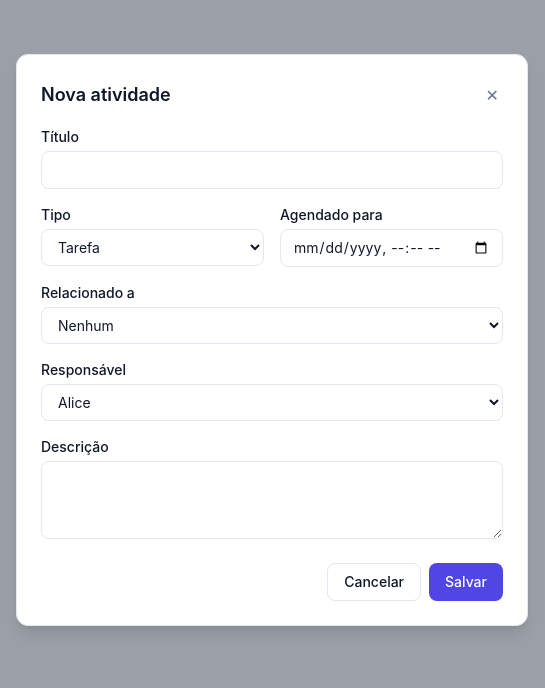
Test case: ActivityFormModal › switching the relation type clears the previously selected related record
Select "Lead" in the dropdown labelled "Relacionado a" at (272, 326), box [41,307,503,344]
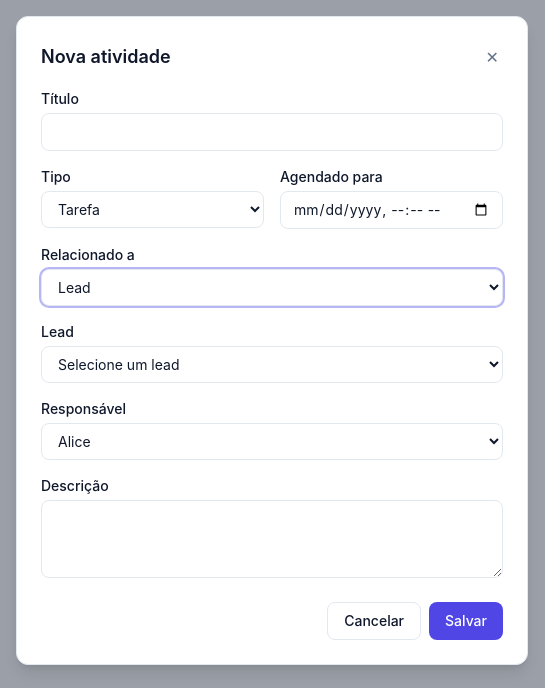
Select "John Doe" in the dropdown labelled "Lead" at (272, 364), box [41,346,503,382]
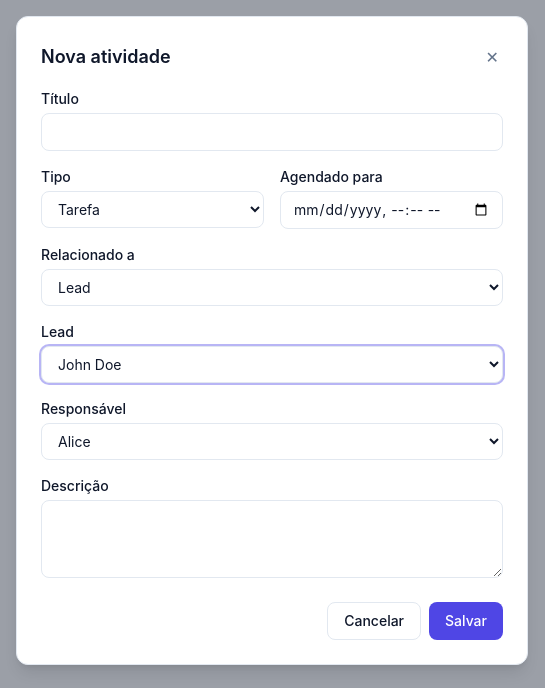
Select "Cliente" in the dropdown labelled "Relacionado a" at (272, 287), box [41,268,503,306]
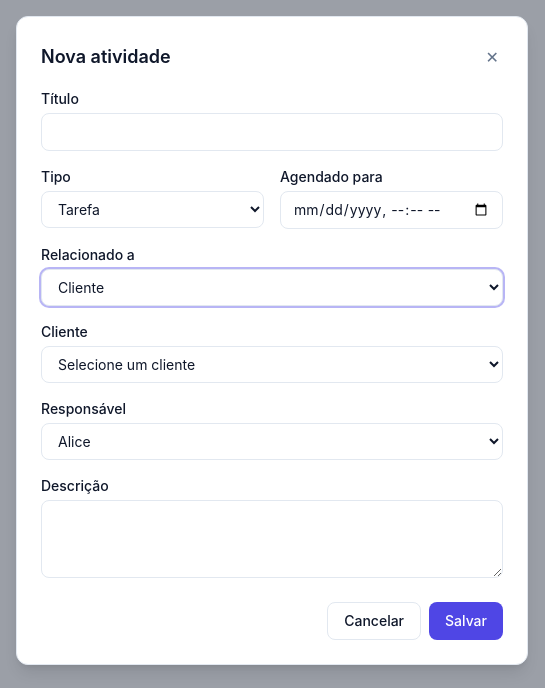
Expected: the dropdown labelled "Cliente" shows "Selecione um cliente", [41,346,503,382]
